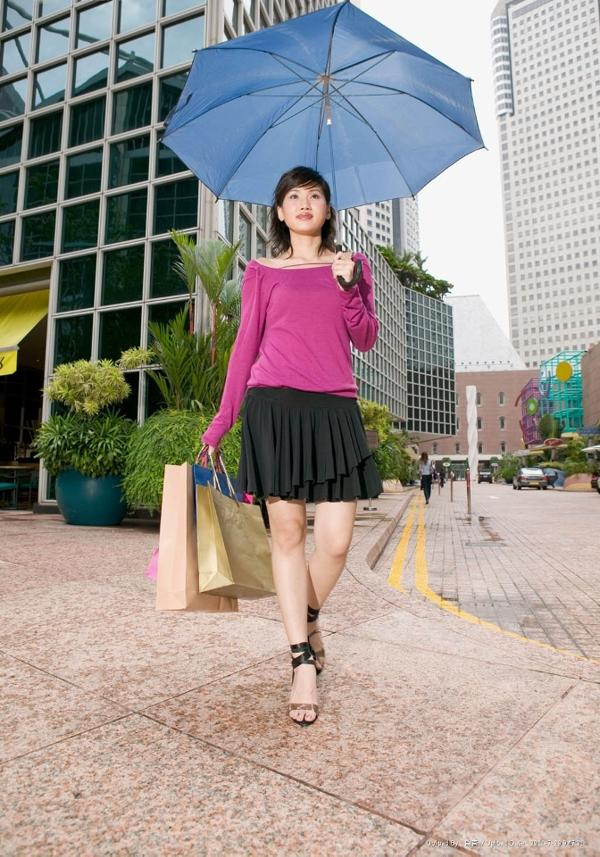person: (202, 167, 379, 722)
